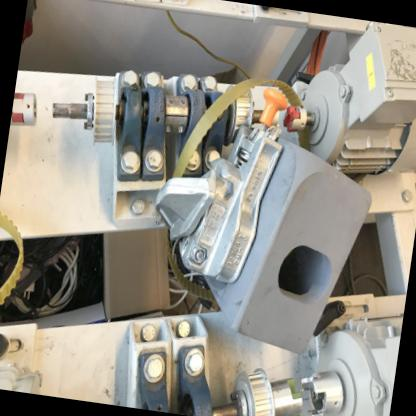CornerCasting: (227, 130, 376, 366)
Twistlock: (139, 66, 294, 298)
